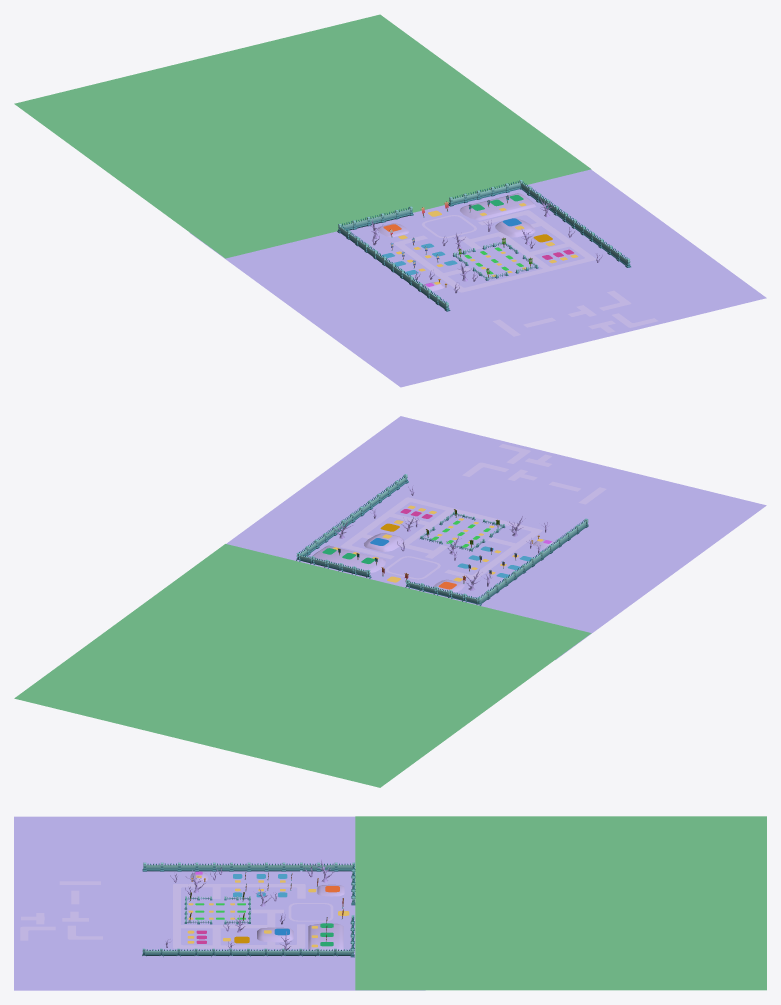
Rendered from env_HUB_Demo_v01.fbx.
3 views of the same model, one above another, from view 1: azimuth 30°, elevation 25°; view 2: azimuth 150°, elevation 25°; view 3: azimuth 270°, elevation 25° (orthographic). The views are drawn at different scales.
Visible parts, largest first — view 1: Floor_2, Floor_1, Walls_right, Walls_left, Hill_2, Plane.007, Walls_right_front, Walls_left_front; view 2: Floor_2, Floor_1, Walls_right, Walls_left, Hill_2, Plane.007; view 3: Floor_2, Floor_1, Walls_left, Walls_right, Hill_2, Plane.007, Plane.017, Hill_3, Zombie_zone_walls, Plane.006, Plane.011.
Boxes of the visible parts, <box> form: Floor_2: <box>14,14,591,258</box>; Floor_1: <box>189,169,766,387</box>; Walls_right: <box>521,181,630,267</box>; Walls_left: <box>340,225,450,311</box>; Hill_2: <box>460,193,535,220</box>; Plane.007: <box>404,250,568,292</box>; Walls_right_front: <box>448,180,522,206</box>; Walls_left_front: <box>337,206,413,233</box>; Floor_2: <box>14,544,591,787</box>; Floor_1: <box>226,416,766,659</box>; Walls_right: <box>299,474,408,556</box>; Walls_left: <box>478,518,588,604</box>; Hill_2: <box>313,545,385,572</box>; Plane.007: <box>432,504,542,567</box>; Floor_2: <box>355,816,766,990</box>; Floor_1: <box>14,816,425,990</box>; Walls_left: <box>142,862,352,871</box>; Walls_right: <box>142,948,351,956</box>; Hill_2: <box>308,923,343,950</box>; Plane.007: <box>173,884,272,935</box>; Plane.017: <box>243,924,305,948</box>; Hill_3: <box>257,927,293,942</box>; Zombie_zone_walls: <box>184,896,250,924</box>; Plane.006: <box>173,935,243,948</box>; Plane.011: <box>176,925,267,928</box>.
Bounding box in the file's own units: 20236 × 1290 × 37012.
